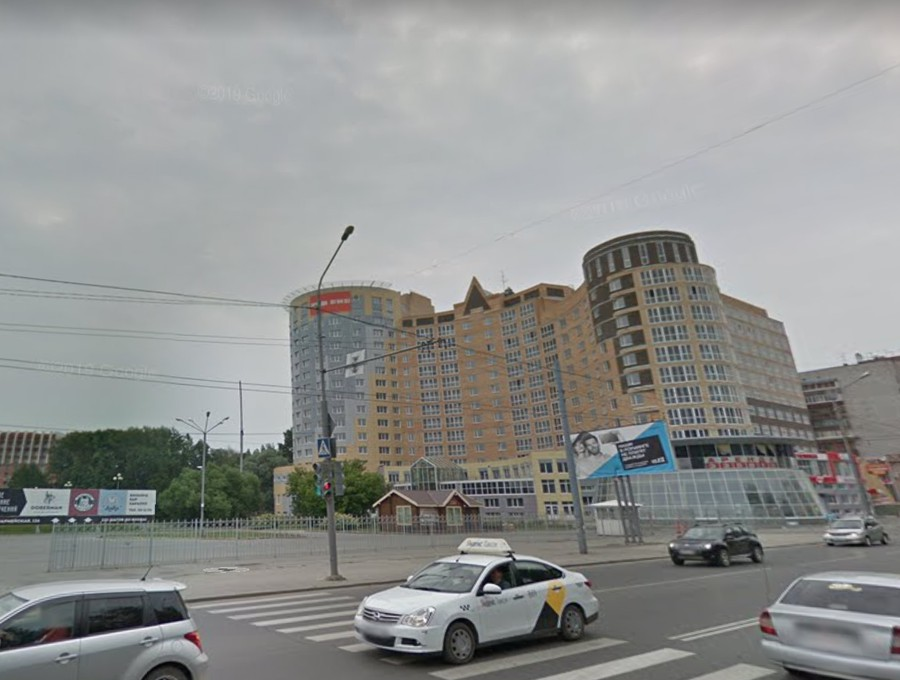Traffic Light-red: (321, 478, 335, 504)
